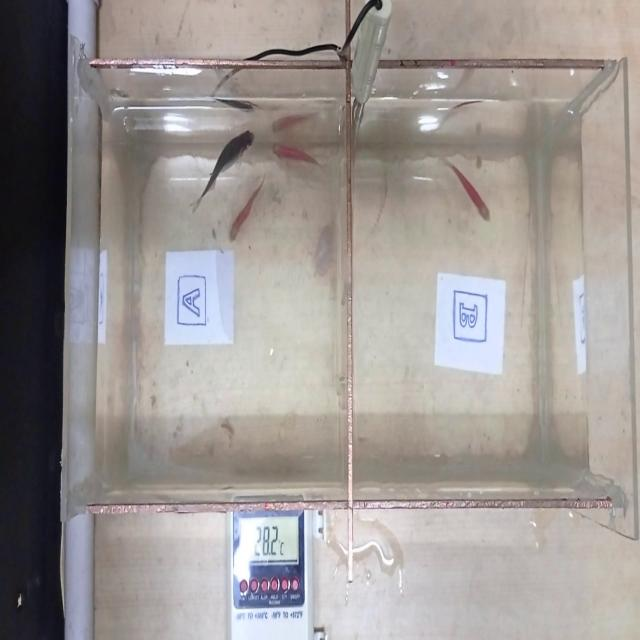Fish A1: (190, 124, 259, 218)
Fish A2: (226, 178, 271, 266)
Fish A3: (270, 123, 332, 188)
Fish B: (439, 142, 505, 244)
